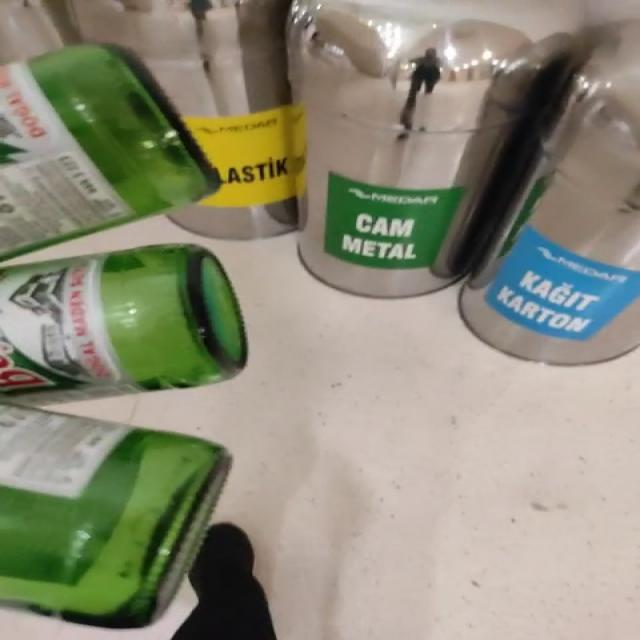Glass: (0, 244, 247, 629), (0, 45, 220, 259)
